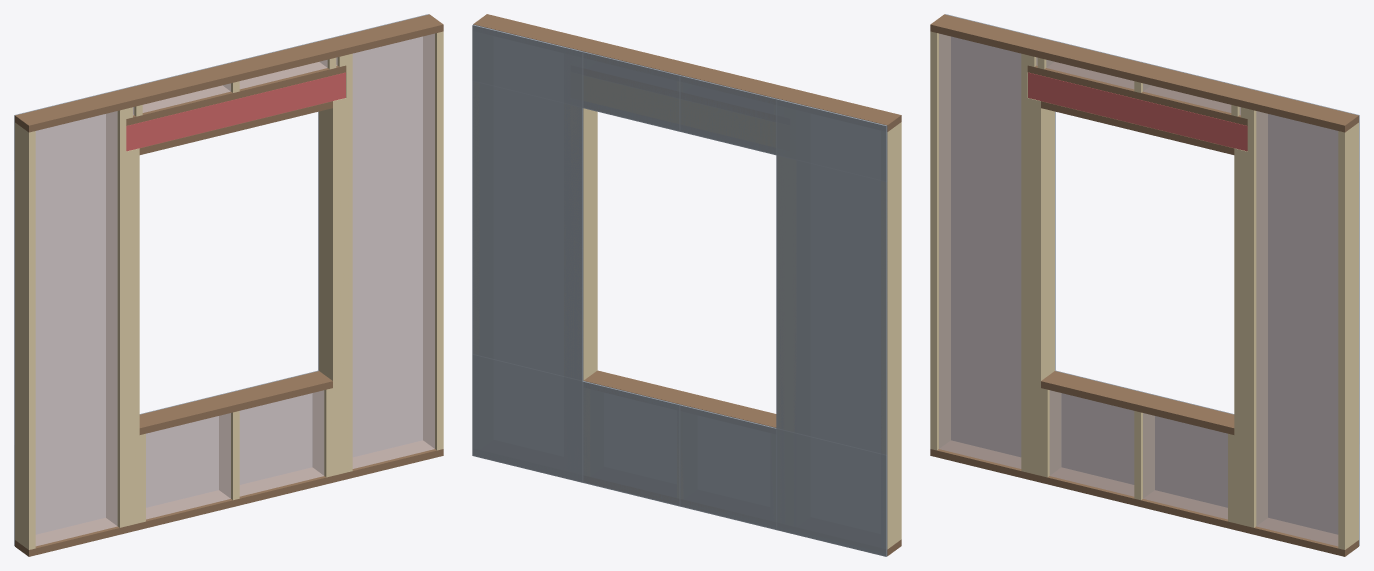
3 renders of one model, left to right at view 1: azimuth 30°, elevation 25°; view 2: azimuth 150°, elevation 25°; view 3: azimuth 330°, elevation 25°, orthographic.
Visible parts, largest first — view 1: EX2 GF; view 2: EX2 GF; view 3: EX2 GF.
Boxes of the visible parts, box(x1,y1,x2,y2) form: EX2 GF: box(14, 14, 443, 556); EX2 GF: box(472, 14, 901, 556); EX2 GF: box(930, 14, 1359, 556).
Size of the model in its own units: 2.4 by 2.39 by 0.149.
